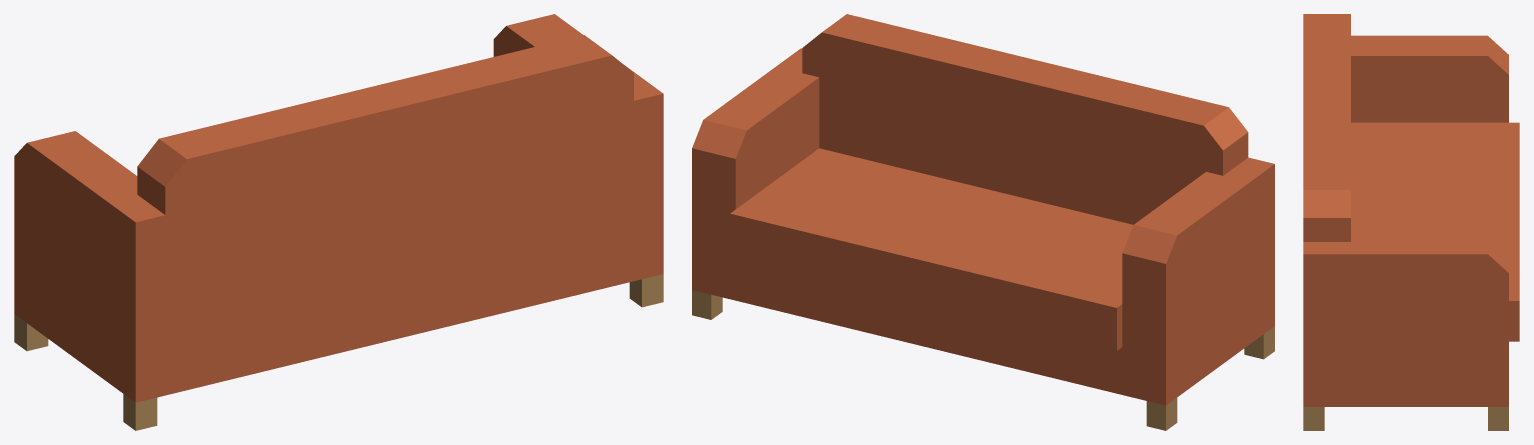
The model's file is loungeSofa.glb.
The picture shows the model from 3 angles, left to right: view 1: azimuth 30°, elevation 25°; view 2: azimuth 150°, elevation 25°; view 3: azimuth 270°, elevation 25°; orthographic projection. The views are drawn at different scales.
Visible parts, largest first — view 1: loungeSofa; view 2: loungeSofa; view 3: loungeSofa.
Part boxes in pixels (x1,y1,x2,y2): loungeSofa: (14, 14, 663, 430); loungeSofa: (692, 14, 1274, 430); loungeSofa: (1303, 14, 1519, 430).
Bounding box in the file's own units: 1.96 × 0.92 × 0.82.
